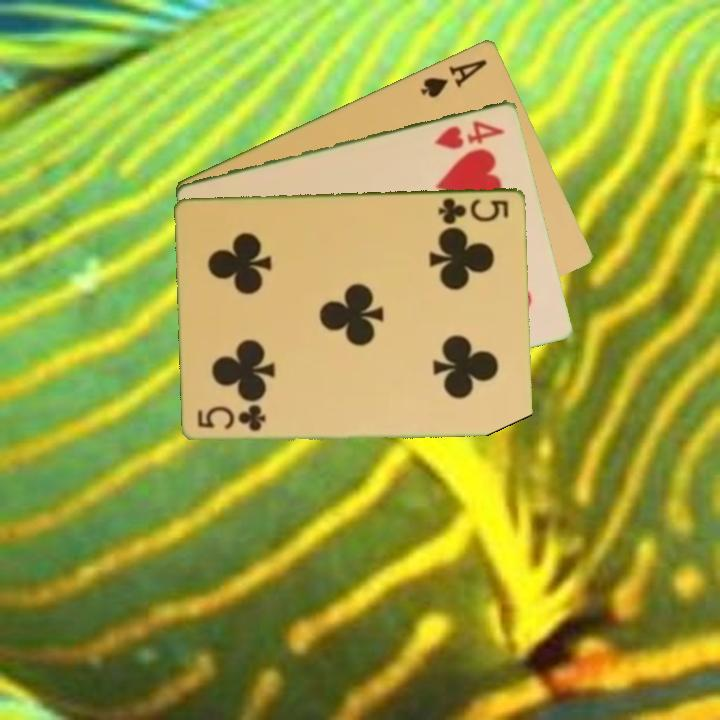4h: (431, 116, 508, 152)
5c: (435, 194, 512, 227), (194, 404, 269, 434)
As: (416, 55, 490, 101)
